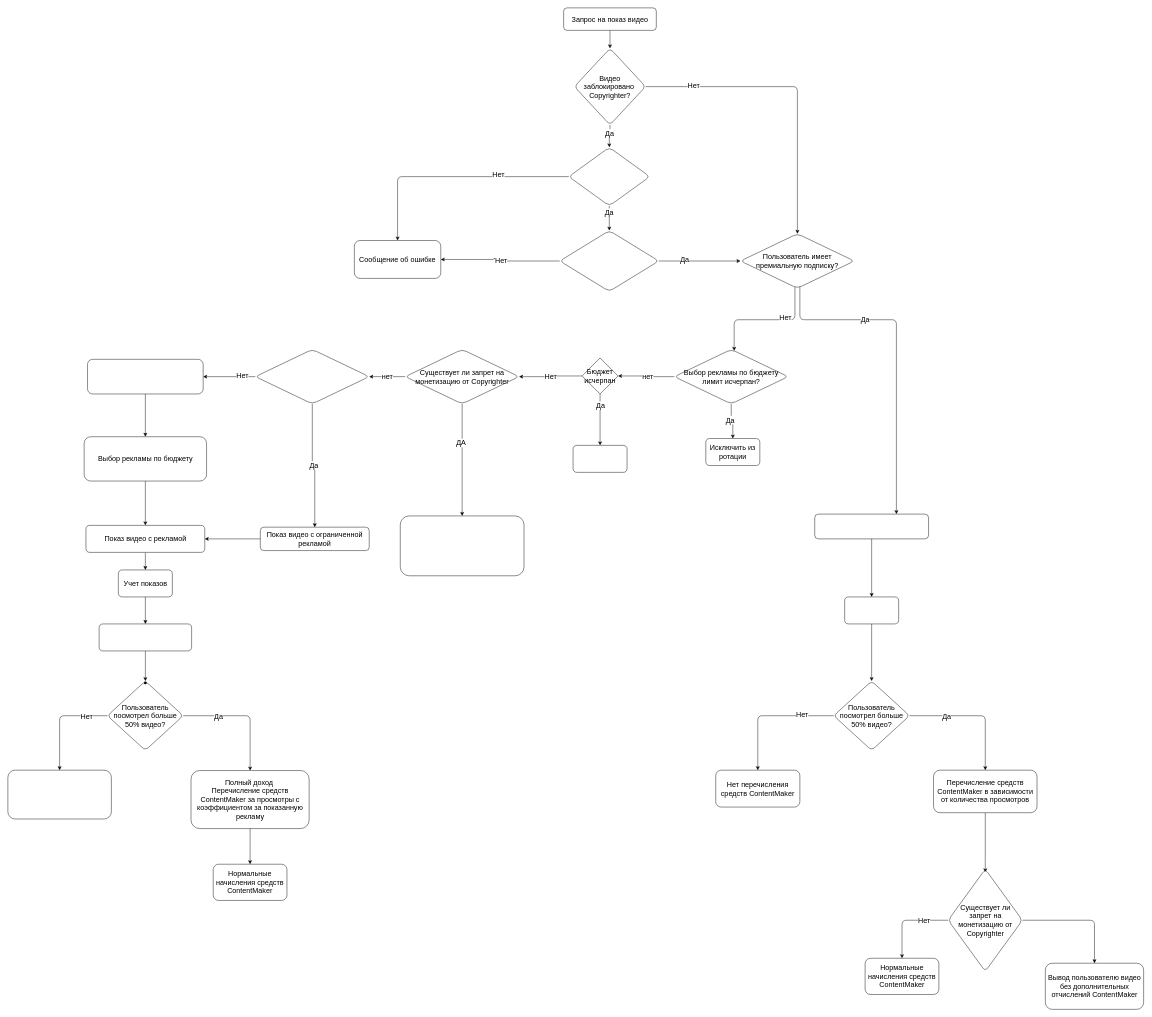
Some shapes in this 1152 by 1017 pixel diagram are drawn without their labels. Here are the shapes that lost their labels. From the top down, the centre of each, then its label:
pixel 609 176: Видео доступно только по премиум подписке?
pixel 609 260: Пользователь оплатил доступ к контенту?
pixel 145 376: Расчет рекламных блоков
pixel 312 376: ContentMaker сократил количество рекламы?
pixel 600 458: Уведомить Admaker
pixel 462 545: Показ видео без рекламы и без дополнительных отчислений ContentMaker
pixel 871 526: Показ видео без рекламы
pixel 871 610: Не учитывать показ в лимите
pixel 145 637: Перечисление Средств только в рамках лимита
pixel 59 794: Частичный доход Перечисление средств ContentMaker только за показанную.рекламу
